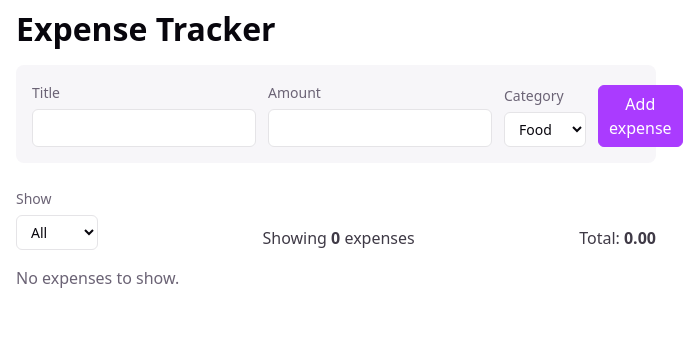
Scenario: Invalid input › does not add a row for a negative amount
In the field with test id "title": (144,128) [32, 109, 256, 147], type "Refund"
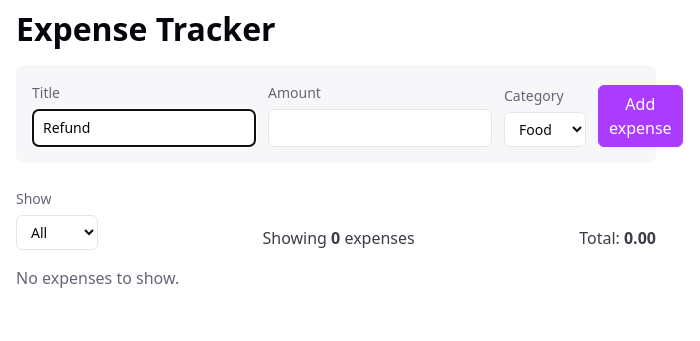
In the field with test id "amount": (380,128) [268, 109, 492, 147], type "-50"
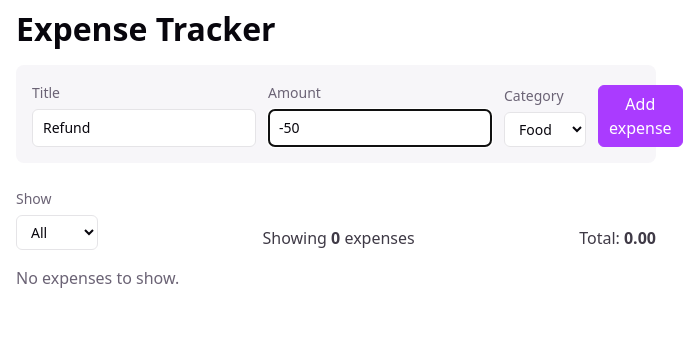
Select "Other" in the dropdown with test id "category": (545,130) [504, 112, 586, 147]
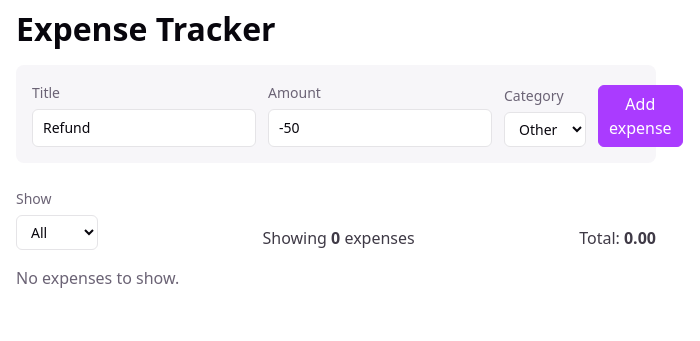
Click the button with test id "add-expense": (641,116) [598, 85, 683, 147]
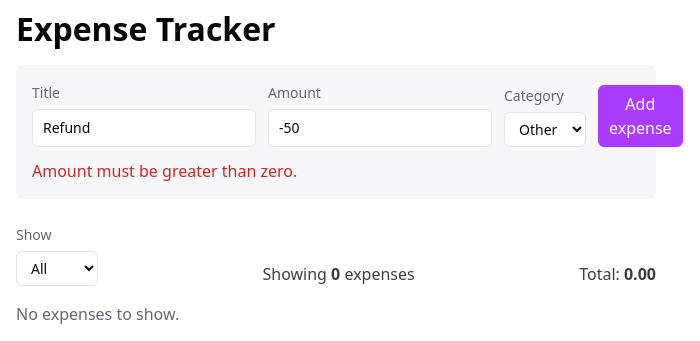
Expected: the text with test id "total" reads "0.00", [624, 263, 656, 285]
Result: the message with test id "form-error" reads "Amount must be greater than zero." at [32, 160, 297, 182]
